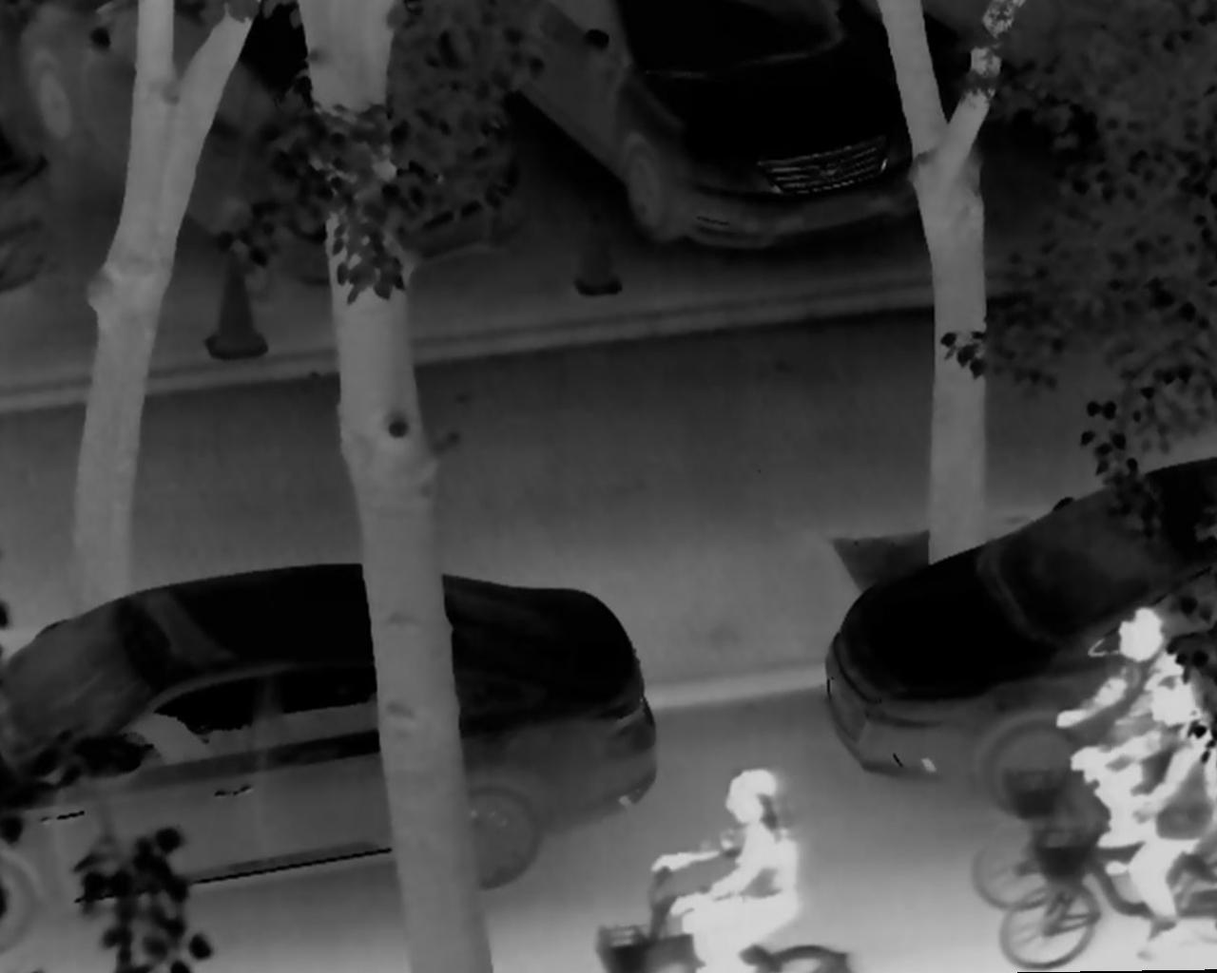person: (1080, 654, 1217, 972), (1052, 603, 1195, 854), (650, 768, 812, 973)
